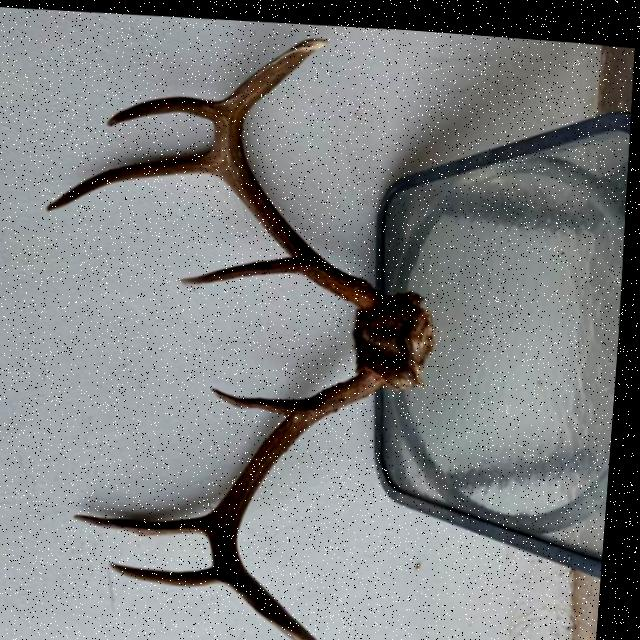L-F: (213, 32, 392, 303)
L-G1: (180, 252, 304, 281)
L-G2: (47, 146, 217, 210)
L-G3: (107, 93, 221, 124)
R-F: (215, 362, 397, 640)
R-G1: (216, 383, 308, 410)
R-G2: (81, 507, 221, 532)
R-G3: (117, 559, 230, 582)
